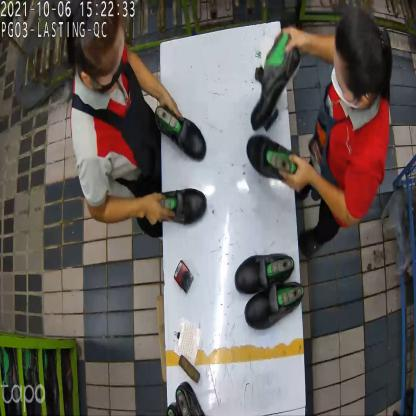shoes: (245, 27, 301, 184), (152, 100, 210, 224), (231, 249, 304, 332)
stamp: (175, 262, 194, 295), (262, 102, 281, 132)
